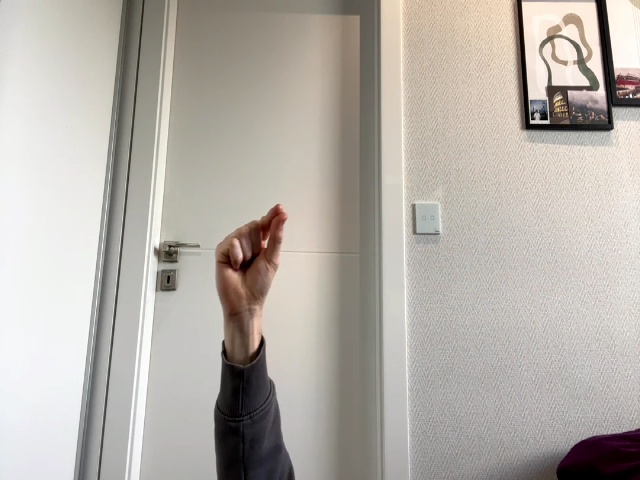P: (216, 203, 289, 318)
